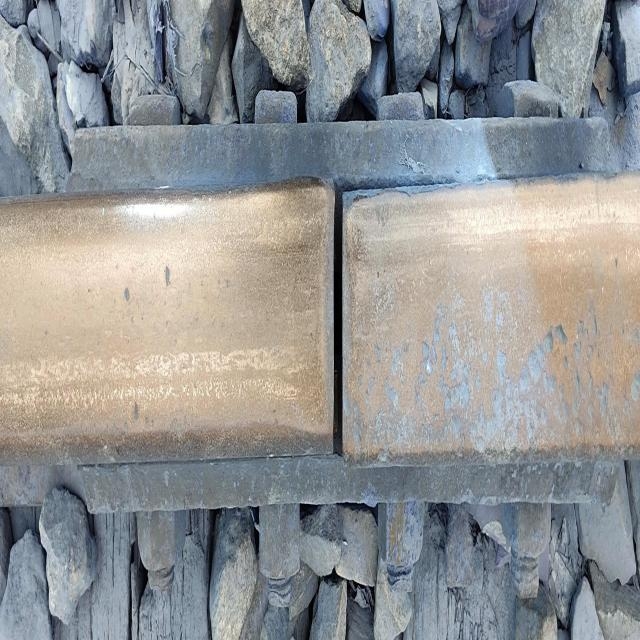Good Joint: (70, 89, 606, 620)
